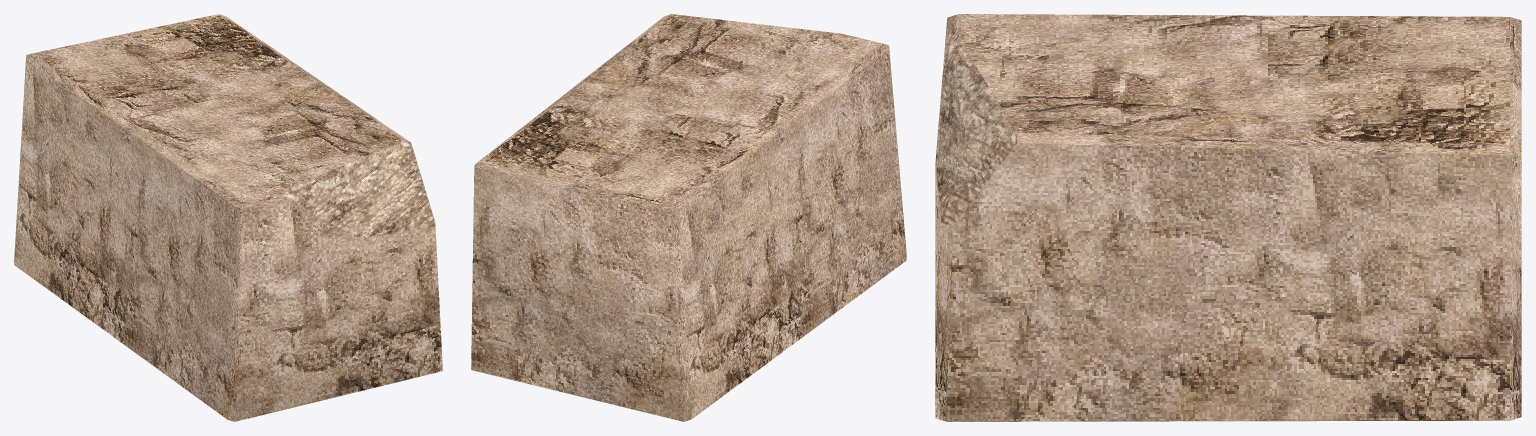
The model's file is stage-dese-p7-13.glb.
The picture shows the model from 3 angles, left to right: view 1: azimuth 30°, elevation 25°; view 2: azimuth 150°, elevation 25°; view 3: azimuth 270°, elevation 25°; orthographic projection. The views are drawn at different scales.
Size of the model in its own units: 1.53 by 1.45 by 2.69.
2 materials, 2 textured.
